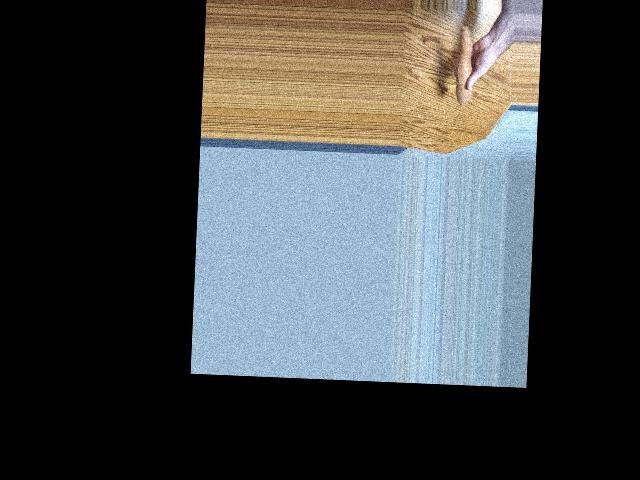sweet_potato: (452, 25, 478, 101)
